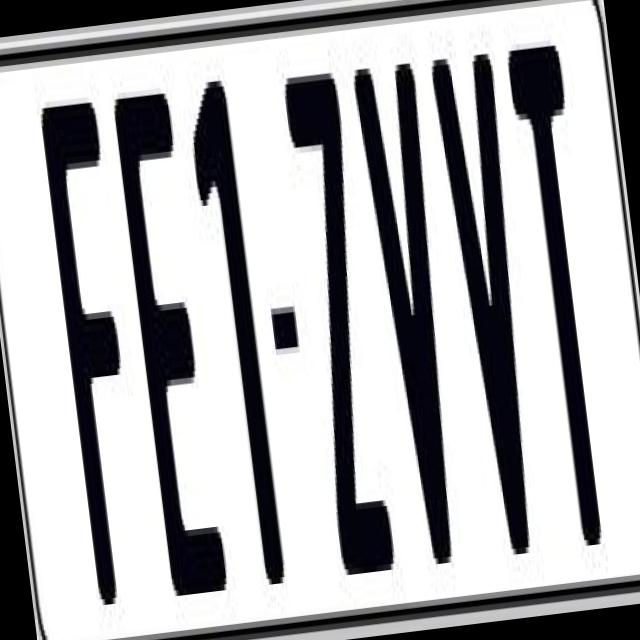1: (182, 62, 287, 604)
E: (105, 75, 233, 614)
F: (33, 95, 159, 617)
T: (502, 32, 622, 566)
V: (350, 50, 480, 584), (428, 35, 556, 557)
Z: (278, 72, 396, 587)
